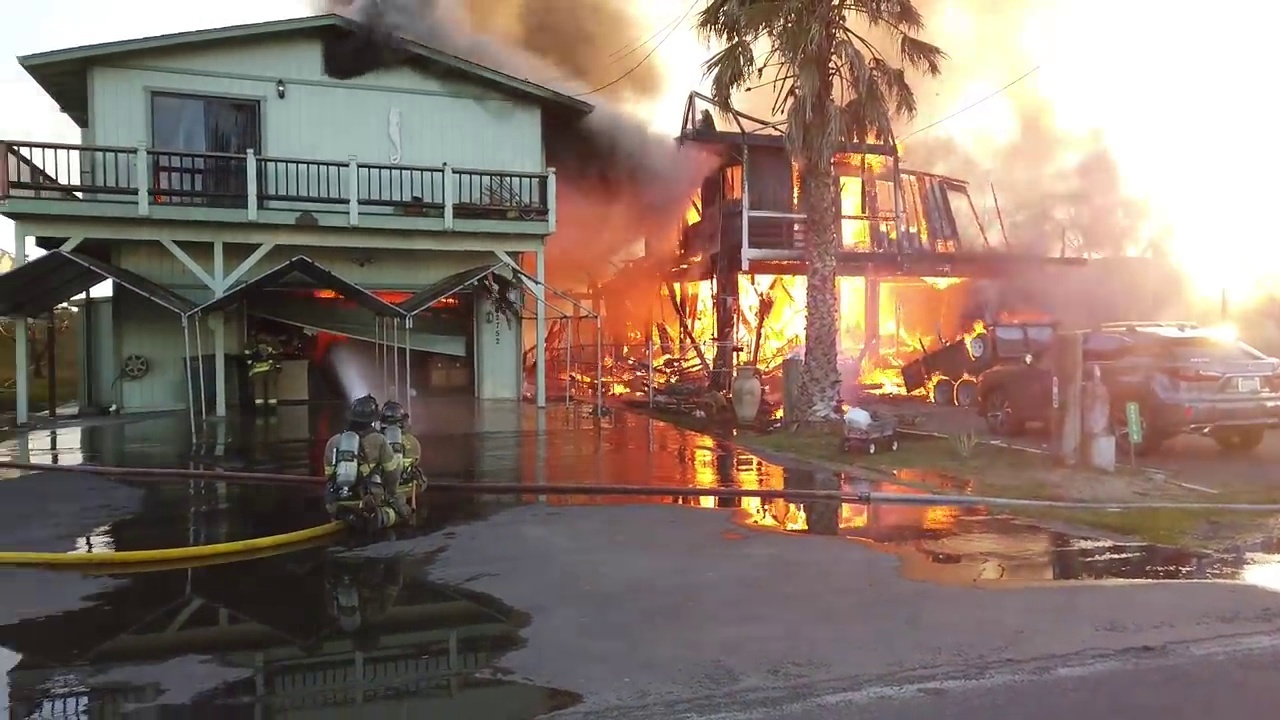fire: (631, 82, 1022, 417), (546, 172, 629, 309), (368, 280, 416, 307), (1122, 394, 1148, 443), (430, 291, 464, 320), (787, 156, 802, 204), (314, 288, 345, 303)
smoke: (313, 3, 659, 172), (905, 2, 1099, 161), (1020, 162, 1192, 309)
